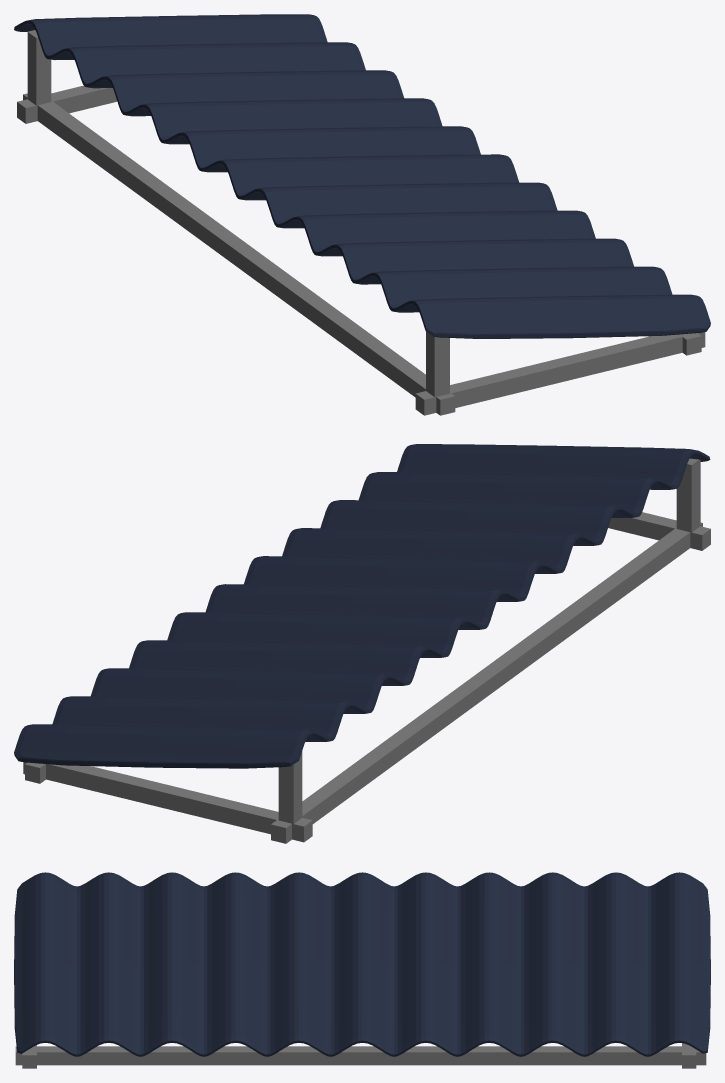
The model's file is roof.fbx.
3 views of the same model, one above another, from view 1: azimuth 30°, elevation 25°; view 2: azimuth 150°, elevation 25°; view 3: azimuth 270°, elevation 25° (orthographic). The views are drawn at different scales.
Parts seen in each view (by area): view 1: Cube.033, Cube.029; view 2: Cube.033, Cube.029; view 3: Cube.033, Cube.029.
Part boxes in pixels (bbox=[...]): Cube.033: bbox=[14, 14, 710, 338]; Cube.029: bbox=[17, 30, 705, 415]; Cube.033: bbox=[14, 444, 710, 768]; Cube.029: bbox=[23, 458, 710, 843]; Cube.033: bbox=[14, 872, 710, 1056]; Cube.029: bbox=[15, 1043, 706, 1068].
Size of the model in its own units: 283 by 95.52 by 713.
